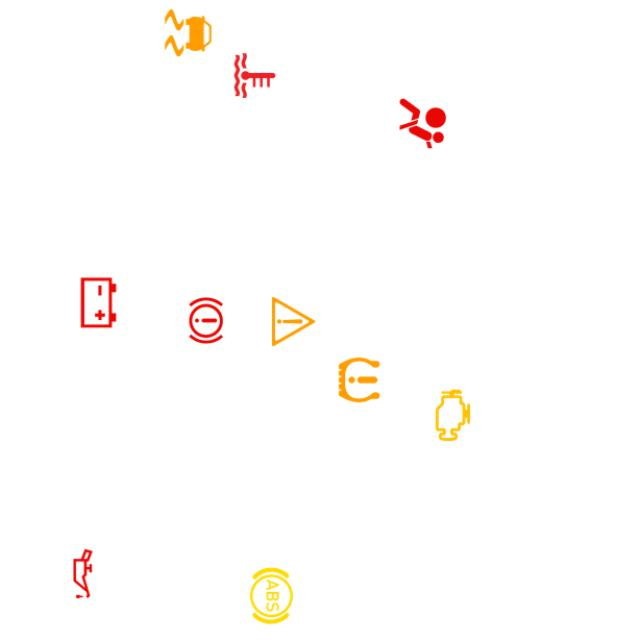Anti Lock Braking System: (241, 565, 302, 626)
Braking System Issue: (175, 290, 237, 351)
Charging System Issue: (68, 272, 129, 334)
Check Engine: (422, 385, 484, 446)
Electronic Stability Problem -ESP-: (157, 2, 219, 64)
Engine Overheating Warning Light: (224, 45, 286, 106)
Low Engine Oil Warning Light: (52, 543, 114, 605)
Low Tire Pressure Warning Light: (328, 349, 390, 411)
Master warning light: (263, 291, 324, 352)
SRS-Airbag: (392, 93, 453, 154)
